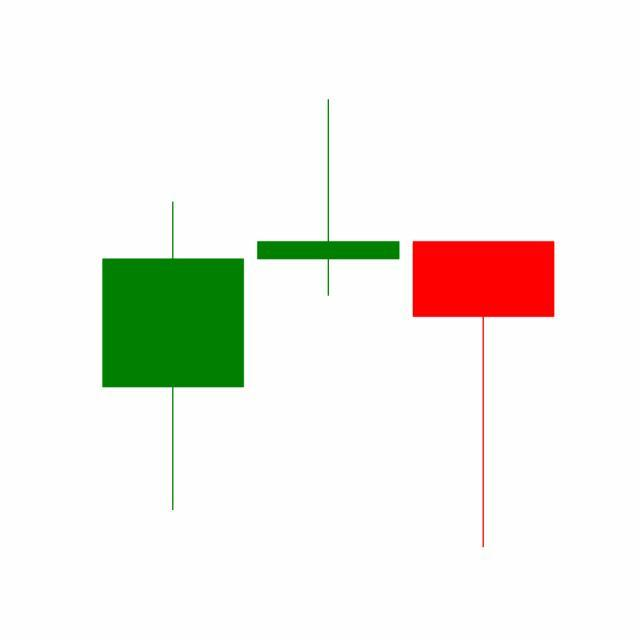Hammer: (406, 239, 562, 552)
